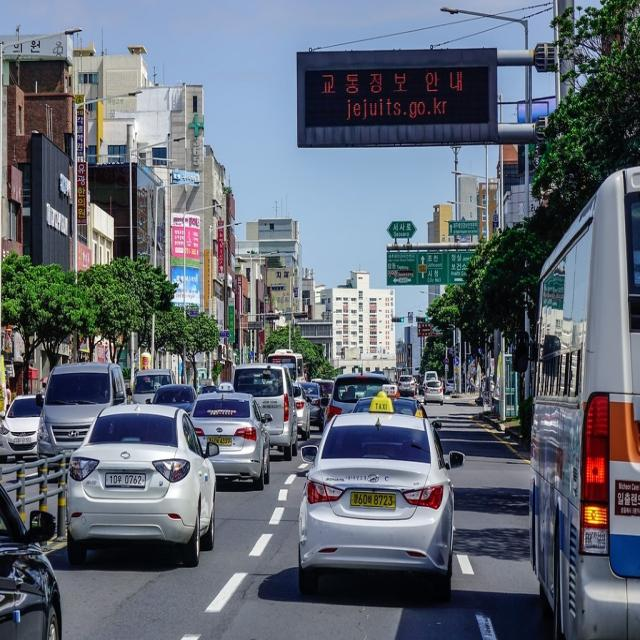green light: (391, 316, 405, 324), (416, 316, 429, 324)
